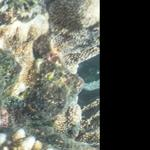dead: (3, 1, 98, 148)
